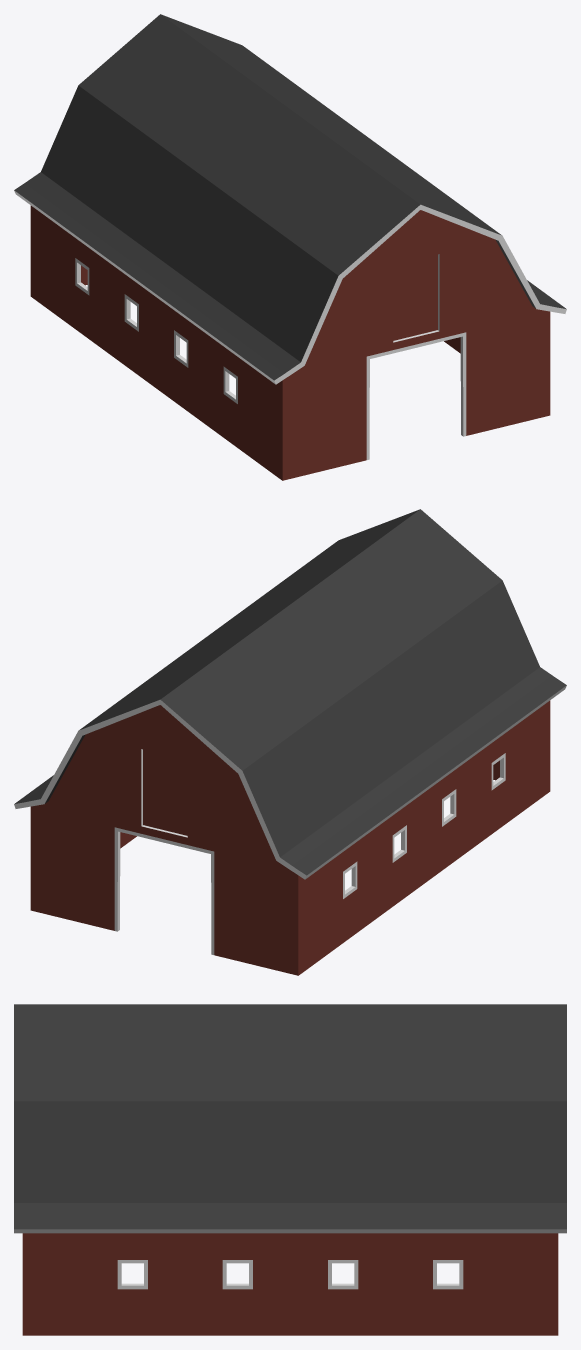
File: Barn.fbx
3 views of the same model, one above another, from view 1: azimuth 30°, elevation 25°; view 2: azimuth 150°, elevation 25°; view 3: azimuth 270°, elevation 25° (orthographic). The views are drawn at different scales.
Visible parts, largest first — view 1: Barn; view 2: Barn; view 3: Barn.
Part boxes in pixels (<box>): Barn: <box>14,14,566,480</box>; Barn: <box>14,509,566,975</box>; Barn: <box>14,1004,566,1335</box>.
Size of what is drawn, in the model's own units: 10.1 by 8.13 by 15.55.
